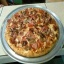pizza: (9, 11, 53, 54)
